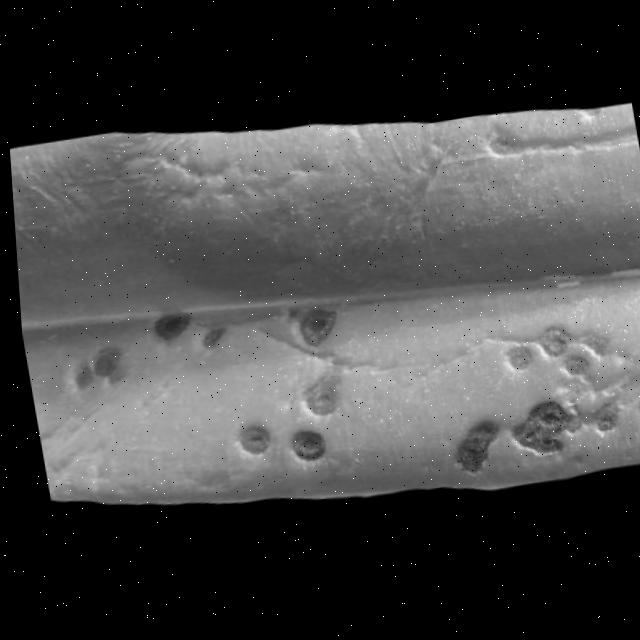mite: (50, 242, 640, 535), (52, 285, 356, 503), (54, 288, 339, 396), (259, 302, 354, 470), (498, 400, 573, 464), (439, 421, 498, 480), (288, 307, 336, 351), (80, 342, 122, 384), (293, 381, 335, 420), (143, 308, 188, 343), (280, 428, 320, 466), (528, 329, 566, 365), (227, 424, 266, 459), (494, 345, 527, 378), (191, 324, 223, 353)
